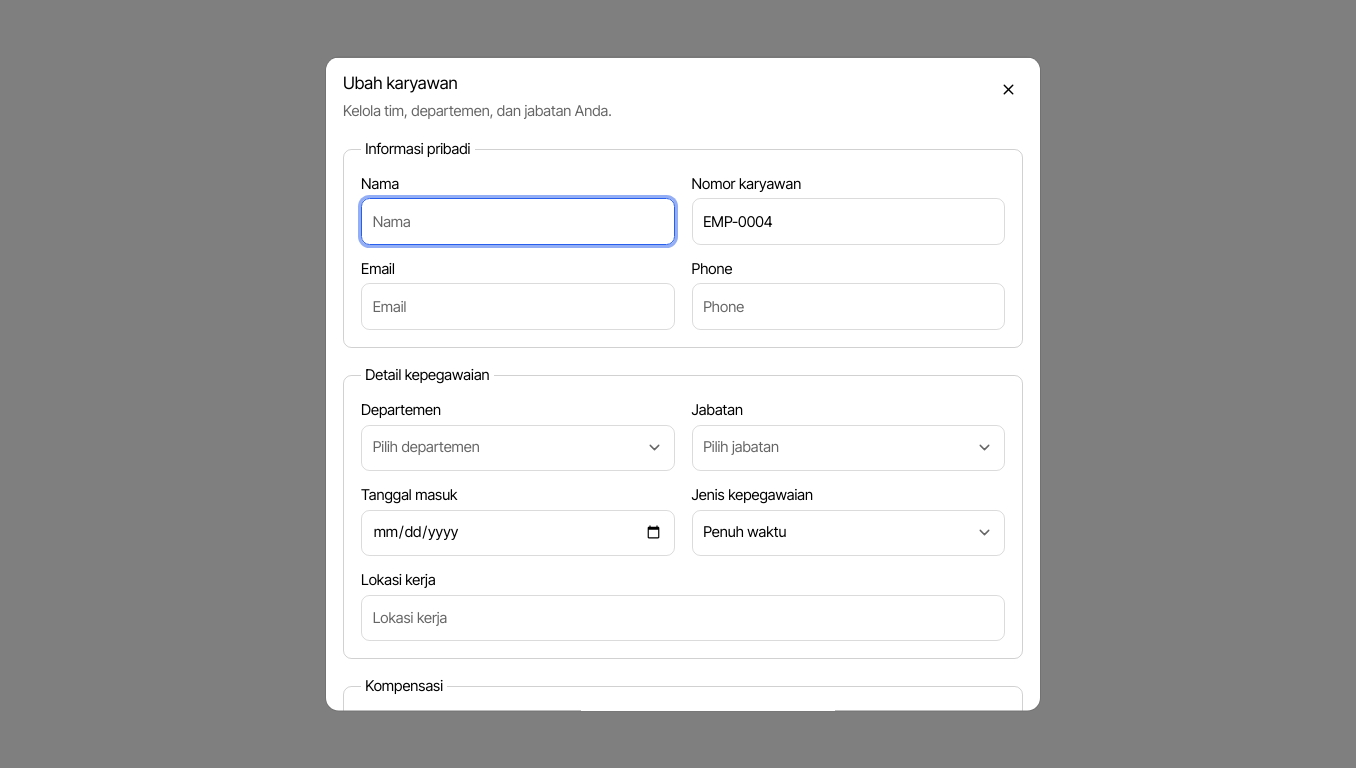
EmployeeFormDialog branches › does not save when update fails
Expected: the heading "Ubah karyawan" is shown, x1=343 y1=73 x2=458 y2=93
Type "Alex" into the field with placeholder "Nama" at (518, 221), box x1=361 y1=198 x2=674 y2=245
(page scrolled)
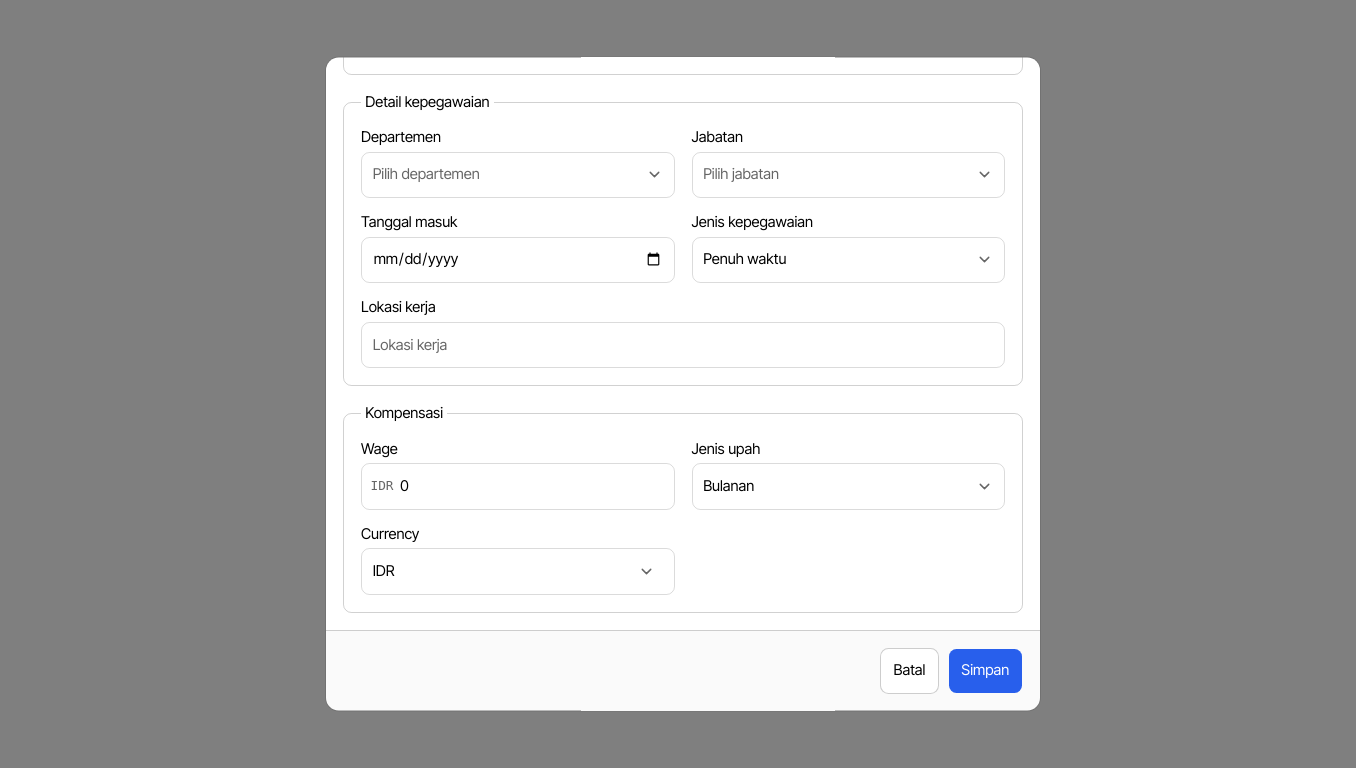
Click the button "Simpan" at (985, 670), box x1=948 y1=647 x2=1023 y2=694
(page scrolled)
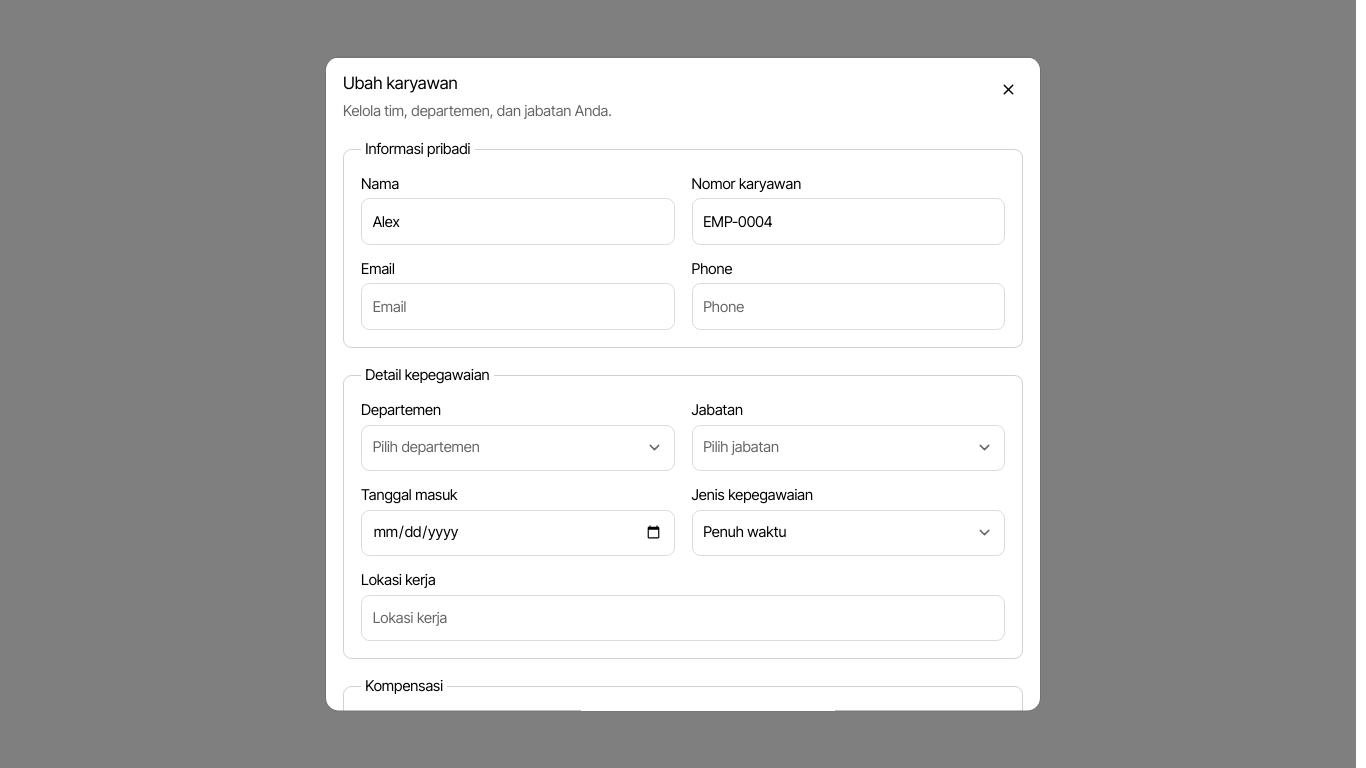
Now the heading "Ubah karyawan" is shown, box x1=343 y1=73 x2=458 y2=93
